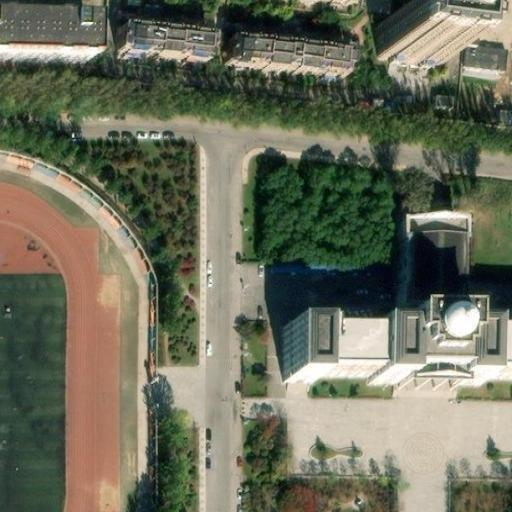building: (293, 325, 512, 380), (392, 227, 457, 328), (230, 40, 345, 76), (0, 8, 87, 53), (375, 18, 443, 60), (118, 26, 202, 58), (459, 45, 504, 71), (432, 92, 454, 111)
